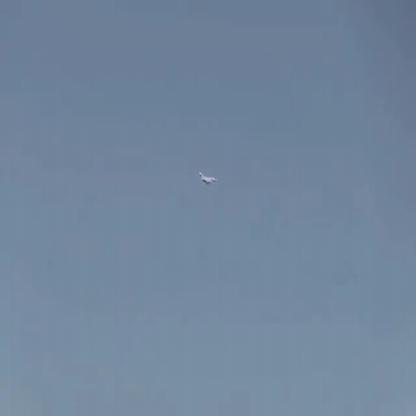CIV_Plane: (198, 172, 218, 186)
